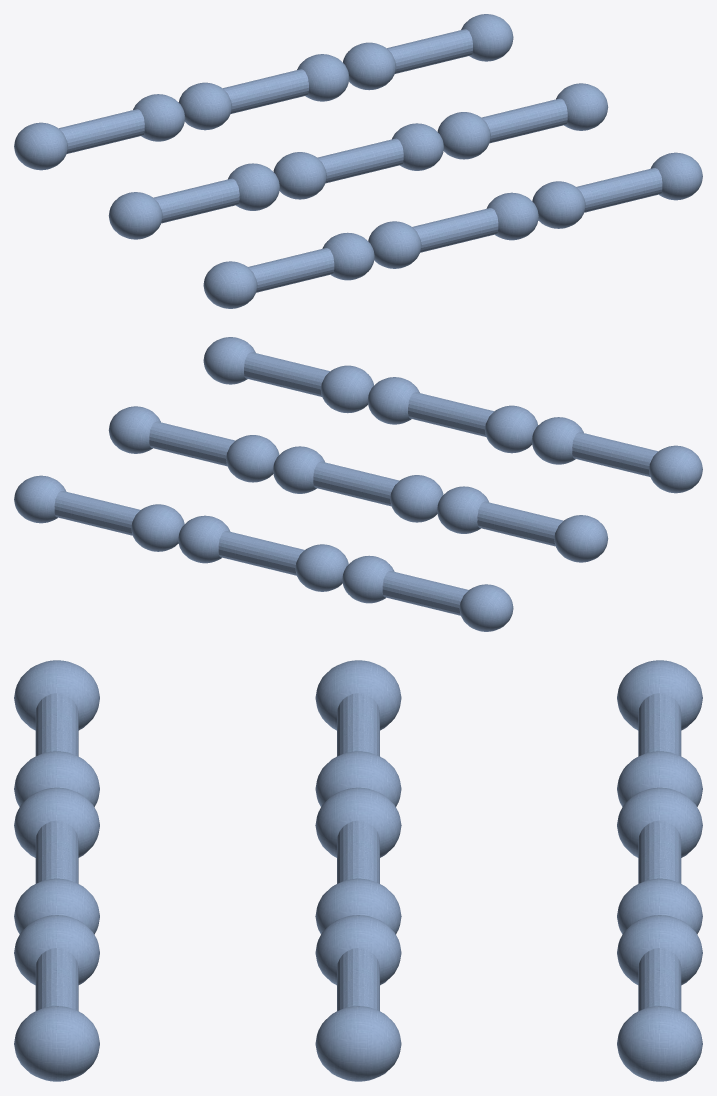
The model's file is ossos.glb.
3 renders of one model, top to bottom at view 1: azimuth 30°, elevation 25°; view 2: azimuth 150°, elevation 25°; view 3: azimuth 270°, elevation 25°, orthographic. The views are drawn at different scales.
Visible parts, largest first — view 1: Osso estilizado.004, Osso estilizado.005, Osso estilizado.006, Osso estilizado.007, Osso estilizado.003, Osso estilizado.008, Osso estilizado, Osso estilizado.001, Osso estilizado.002, Extremidade, Extremidade.006, Extremidade.012 (+15 smaller); view 2: Osso estilizado, Osso estilizado.001, Osso estilizado.004, Osso estilizado.005, Osso estilizado.002, Osso estilizado.003, Osso estilizado.006, Osso estilizado.007, Osso estilizado.008, Extremidade.012, Extremidade, Extremidade.006 (+15 smaller); view 3: Extremidade.011, Extremidade.005, Extremidade.017, Extremidade, Extremidade.012, Extremidade.002, Extremidade.004, Extremidade.014, Extremidade.016, Extremidade.008, Extremidade.006, Extremidade.010 (+15 smaller).
Boxes of the visible parts, <box> form: Osso estilizado.004: <box>317,138,403,183</box>; Osso estilizado.005: <box>481,98,567,143</box>; Osso estilizado.006: <box>248,248,334,292</box>; Osso estilizado.007: <box>412,208,498,252</box>; Osso estilizado.003: <box>153,178,239,223</box>; Osso estilizado.008: <box>576,168,662,212</box>; Osso estilizado: <box>59,109,144,153</box>; Osso estilizado.001: <box>223,69,308,113</box>; Osso estilizado.002: <box>387,29,472,73</box>; Extremidade: <box>14,122,67,170</box>; Extremidade.006: <box>108,192,162,239</box>; Extremidade.012: <box>203,261,257,308</box>; Osso estilizado: <box>382,571,468,615</box>; Osso estilizado.001: <box>218,531,304,575</box>; Osso estilizado.004: <box>313,461,399,506</box>; Osso estilizado.005: <box>149,421,235,466</box>; Osso estilizado.002: <box>54,491,140,535</box>; Osso estilizado.003: <box>477,501,563,546</box>; Osso estilizado.006: <box>572,432,657,476</box>; Osso estilizado.007: <box>408,392,493,436</box>; Osso estilizado.008: <box>244,352,329,396</box>; Extremidade.012: <box>649,445,702,493</box>; Extremidade: <box>459,584,513,631</box>; Extremidade.006: <box>554,515,608,562</box>; Extremidade.011: <box>315,1006,401,1081</box>; Extremidade.005: <box>617,1006,702,1081</box>; Extremidade.017: <box>14,1006,99,1081</box>; Extremidade: <box>617,660,702,730</box>; Extremidade.012: <box>14,660,99,730</box>; Extremidade.002: <box>617,787,702,857</box>; Extremidade.004: <box>617,915,702,985</box>; Extremidade.014: <box>14,787,99,857</box>; Extremidade.016: <box>14,915,99,985</box>; Extremidade.008: <box>315,787,401,857</box>; Extremidade.006: <box>315,660,401,730</box>; Extremidade.010: <box>315,915,401,985</box>.
Bounding box in the file's own units: 2.1 × 0.17 × 1.6.
Materials: 1 (1 with a texture image).
